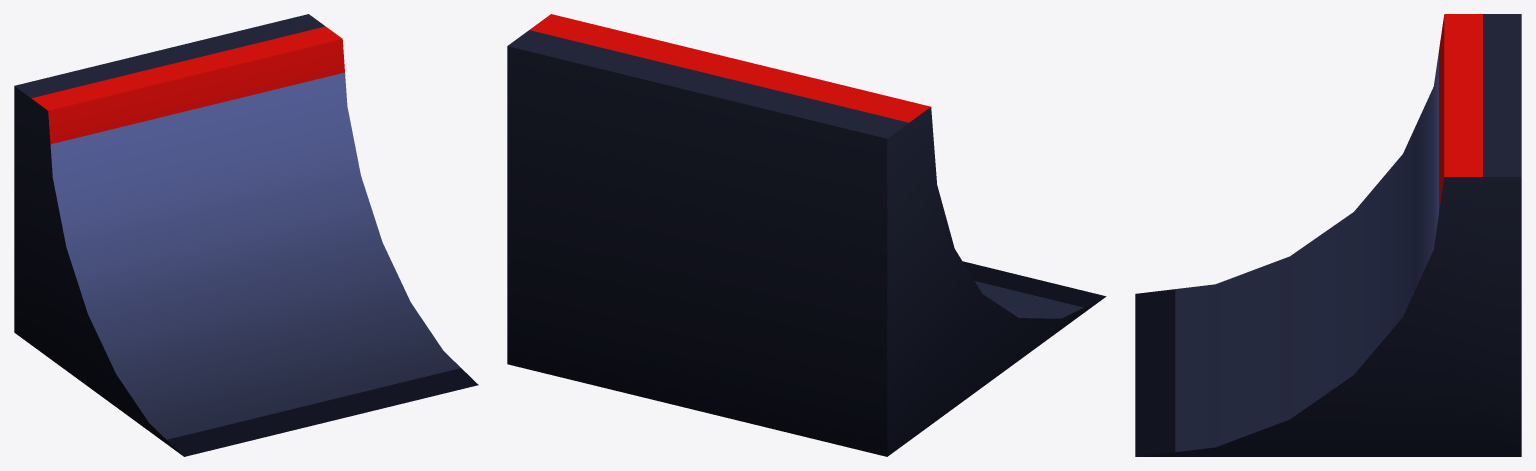
The model's file is bowl-side.fbx.
3 renders of one model, left to right at view 1: azimuth 30°, elevation 25°; view 2: azimuth 150°, elevation 25°; view 3: azimuth 270°, elevation 25°, orthographic. The views are drawn at different scales.
Visible parts, largest first — view 1: bowl-side; view 2: bowl-side; view 3: bowl-side.
Boxes of the visible parts, x1,y1,x2,y2 form: bowl-side: (14, 14, 478, 456); bowl-side: (507, 14, 1106, 456); bowl-side: (1135, 14, 1521, 456).
Size of the model in its own units: 10 by 8 by 10.
